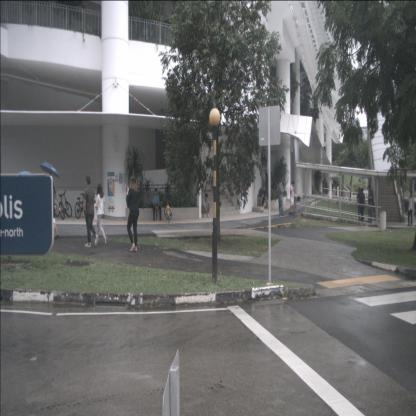human-pedestrian-adult: (40, 161, 62, 240), (82, 175, 98, 247), (126, 175, 139, 252), (94, 184, 108, 245), (276, 178, 285, 216), (152, 188, 162, 221), (358, 188, 366, 222), (366, 185, 373, 223), (278, 180, 285, 217), (201, 193, 211, 218), (407, 191, 413, 226), (289, 181, 295, 215), (356, 188, 362, 221), (261, 190, 270, 211), (292, 195, 300, 214), (349, 183, 352, 201)
vehicle-bicycle: (74, 192, 90, 220), (58, 189, 72, 220), (164, 196, 172, 223)
